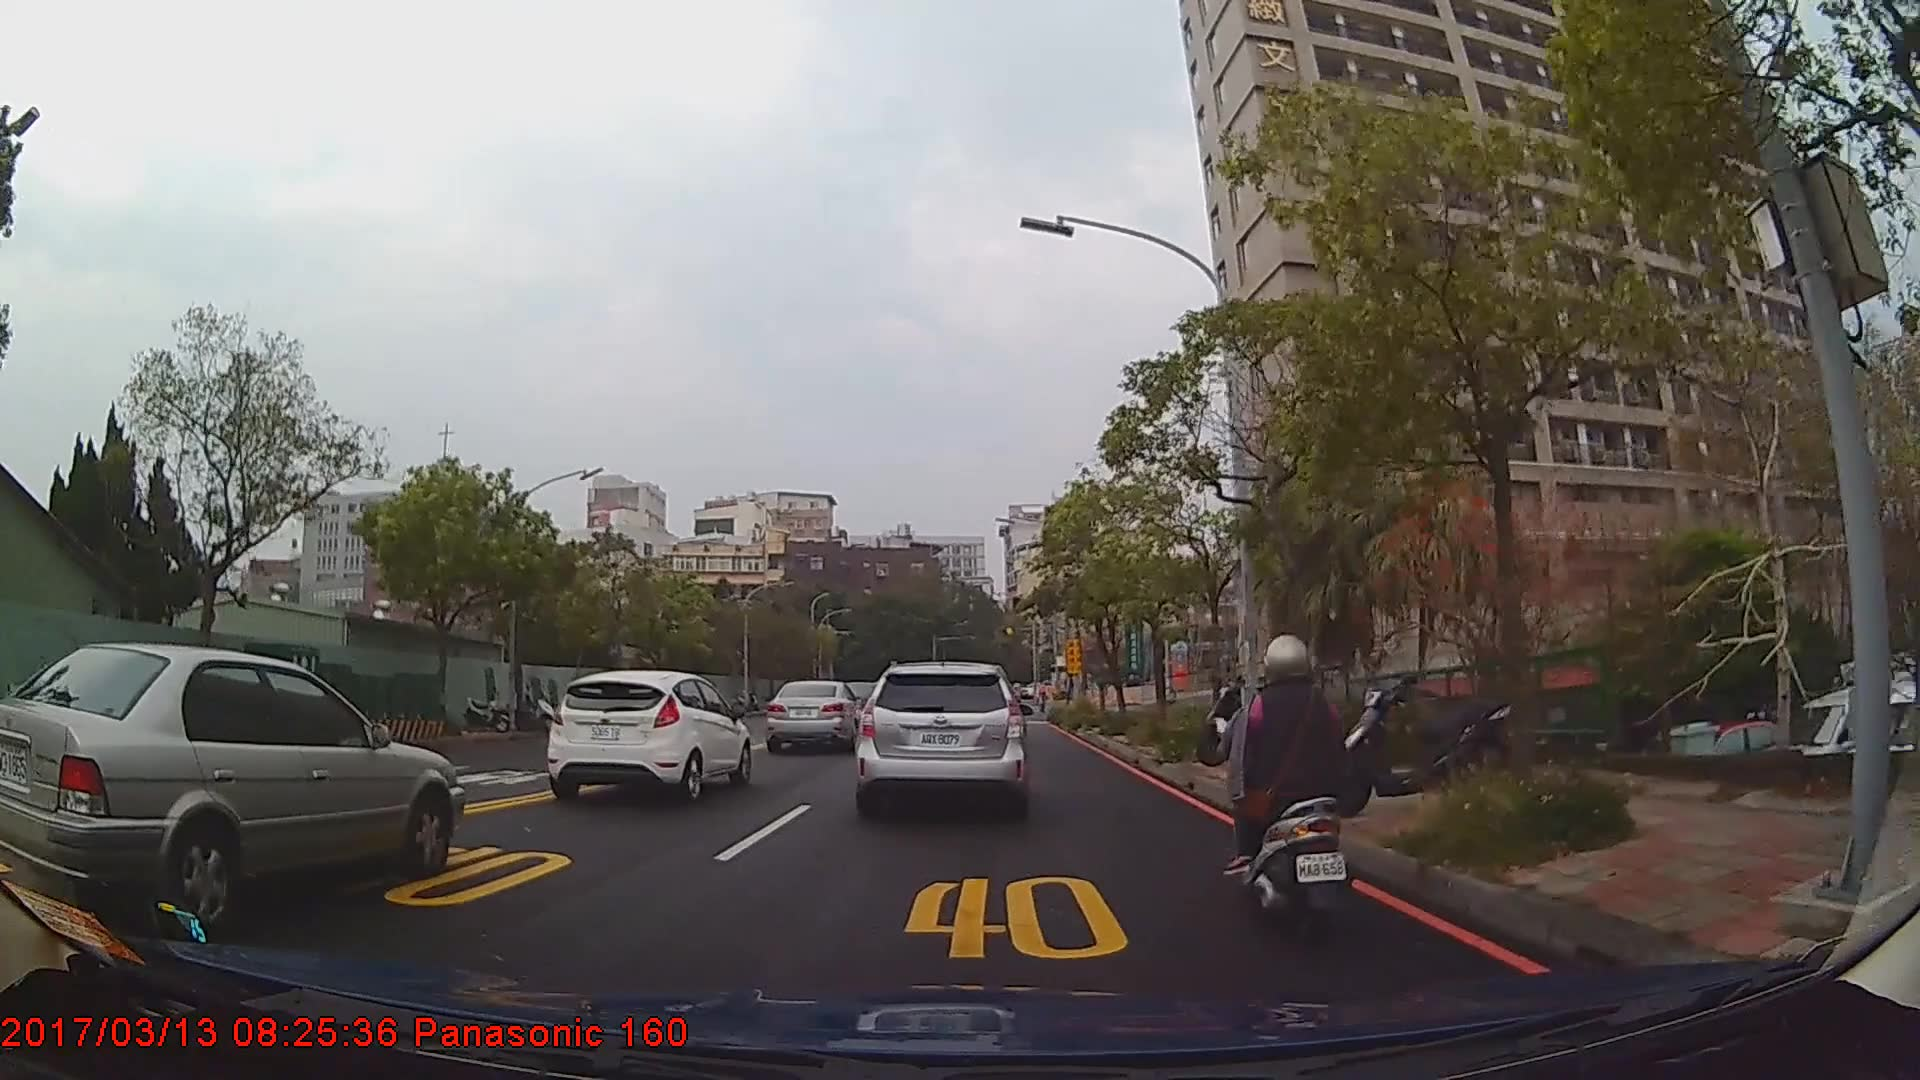rider: (1220, 631, 1368, 939)
vehicle: (0, 637, 464, 931), (544, 669, 751, 805), (854, 658, 1027, 818), (766, 678, 866, 753)
